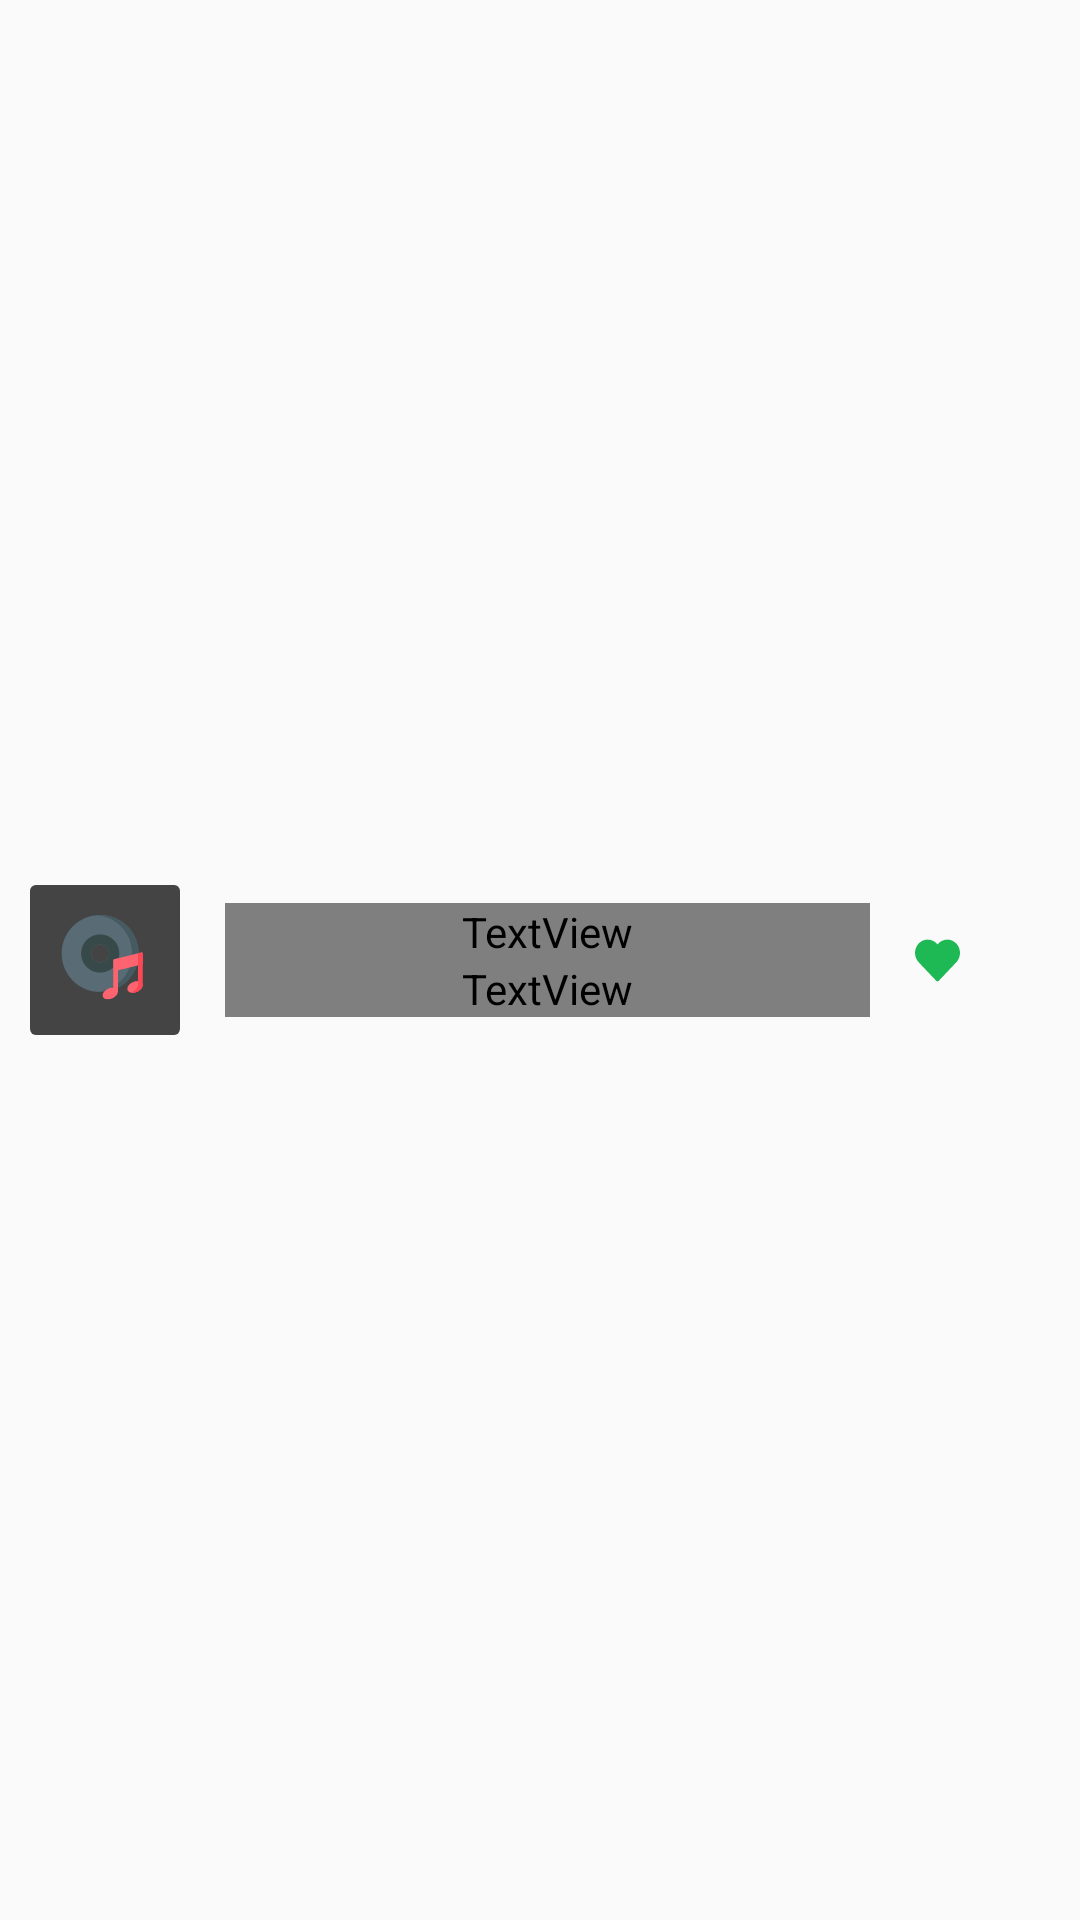

Point at icon controls on the screen. Image size 1080px×1920px, points as (x=x, y=y).
playlist: (x=105, y=960)
playlist item liked: (x=937, y=960)
